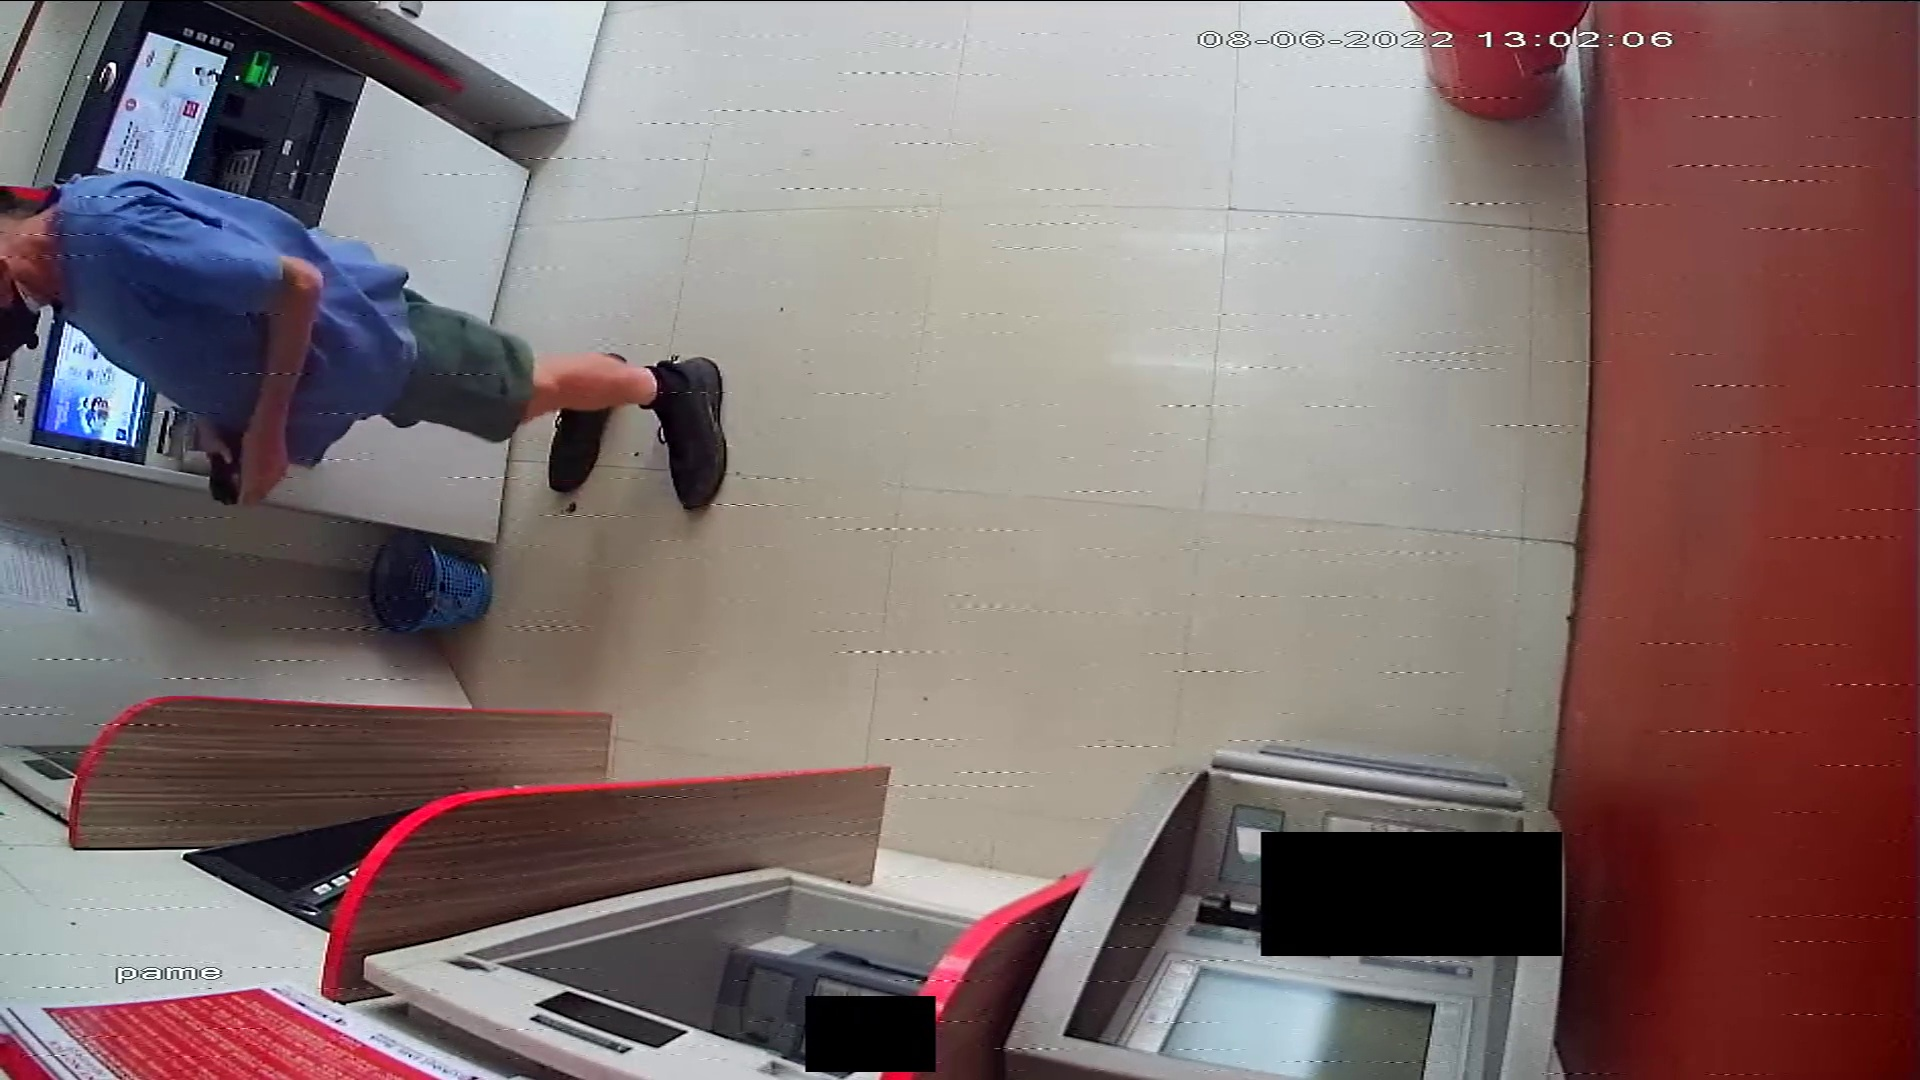person: (1, 173, 736, 510)
